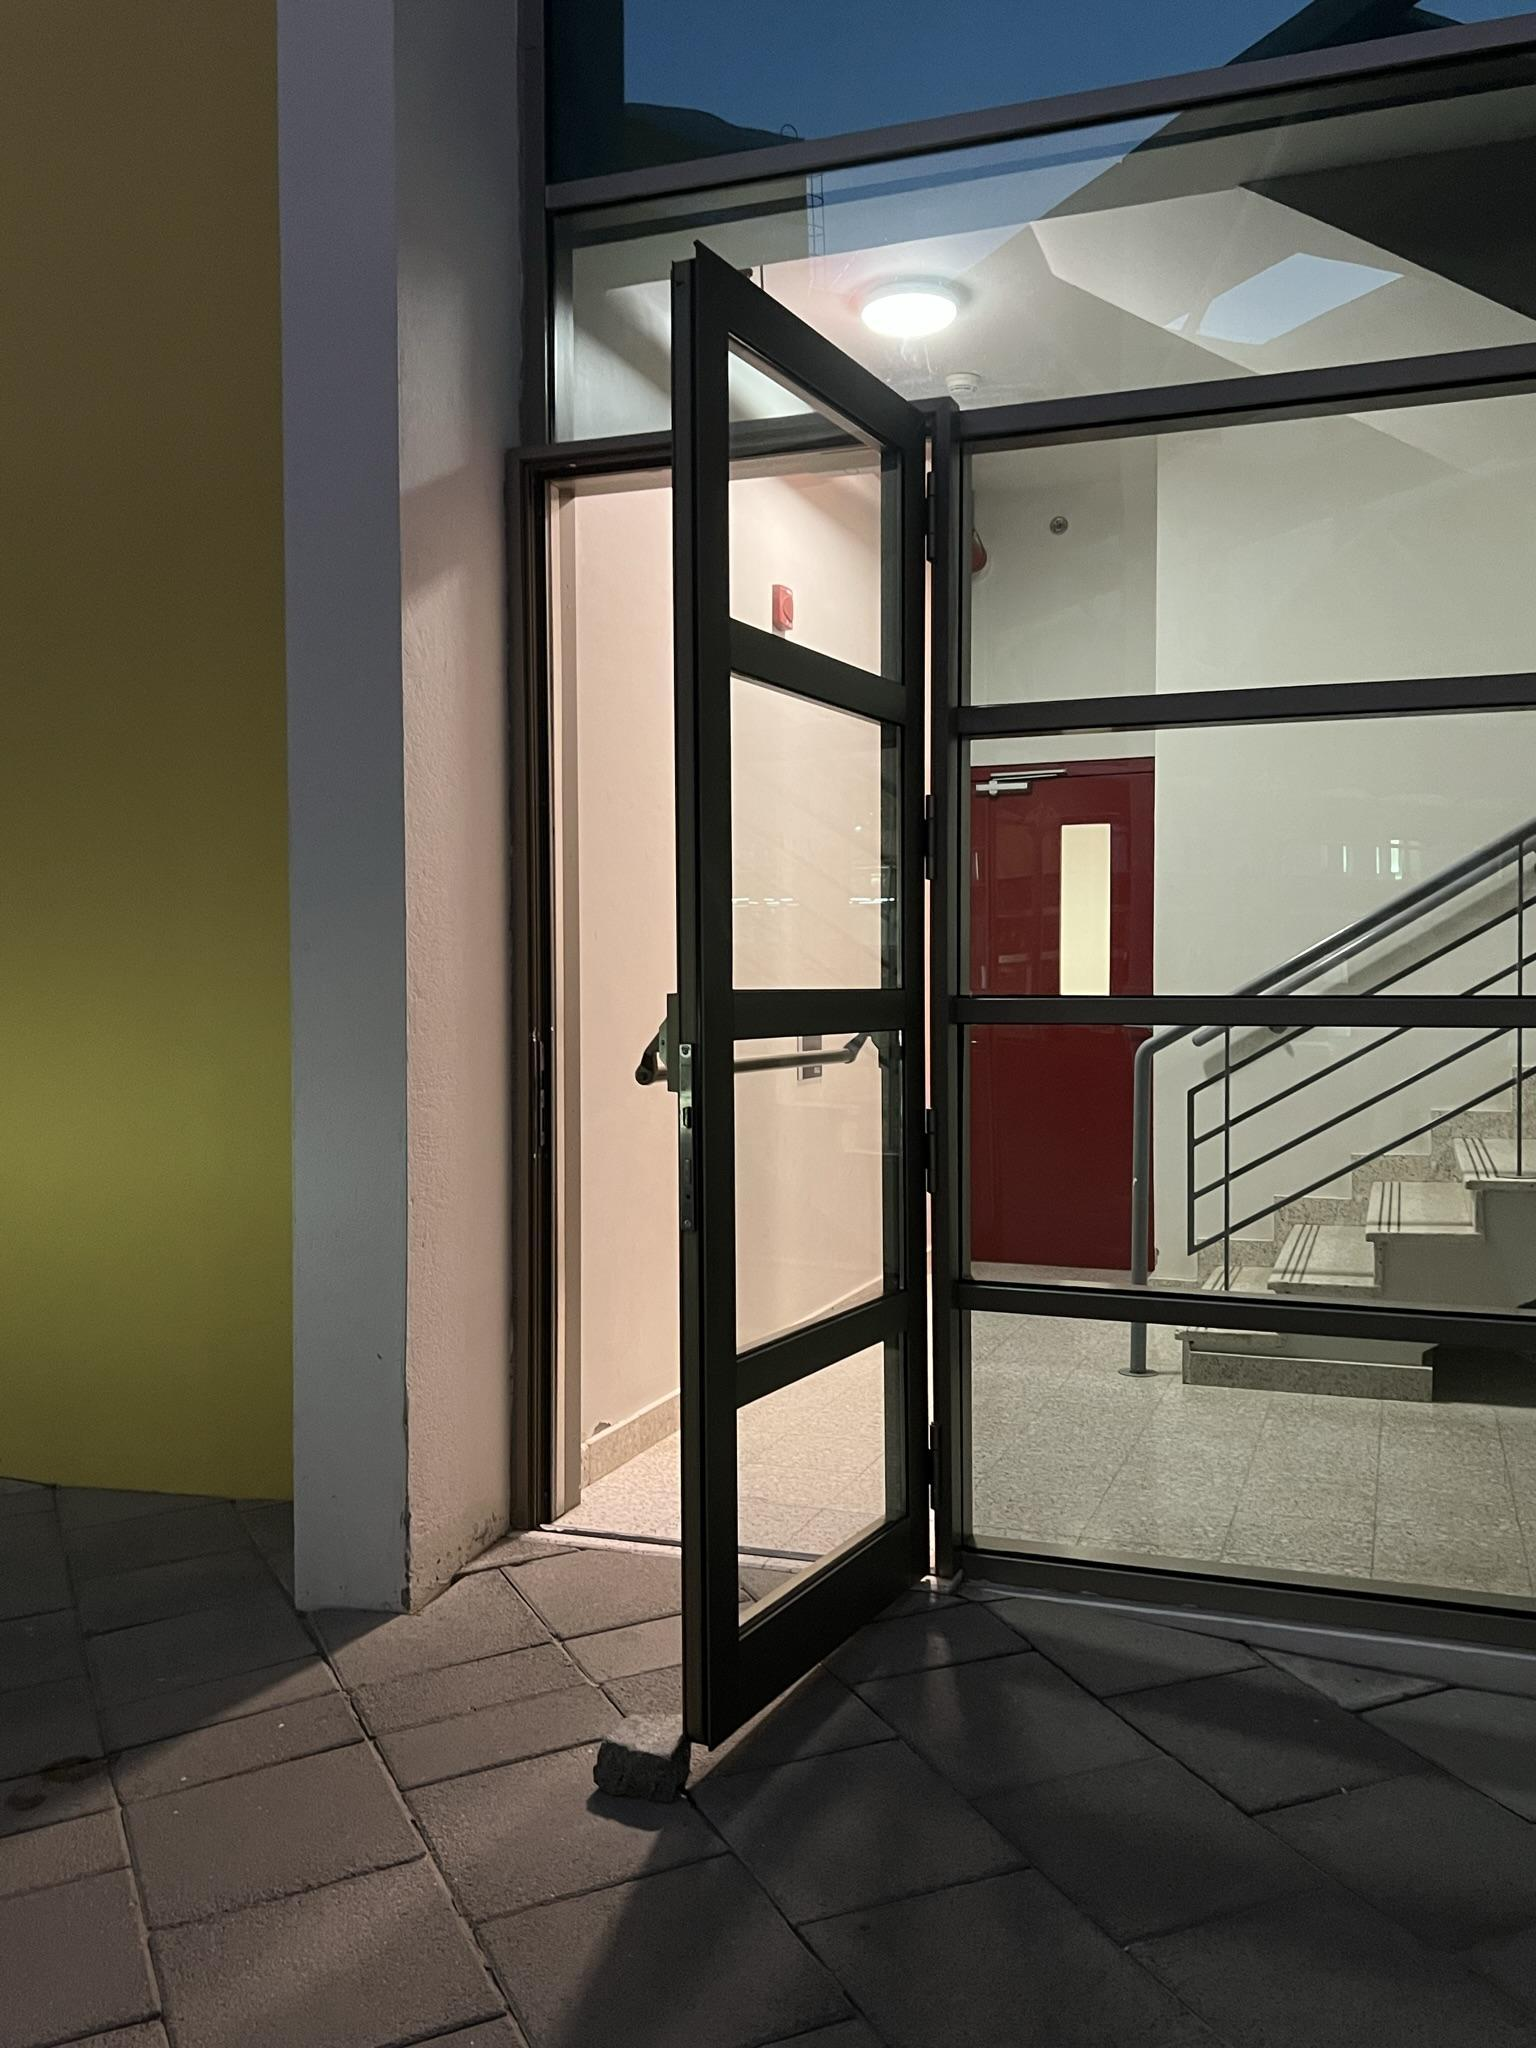door: (673, 247, 937, 1709)
